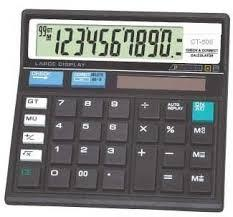Calculator: (7, 3, 233, 217)
